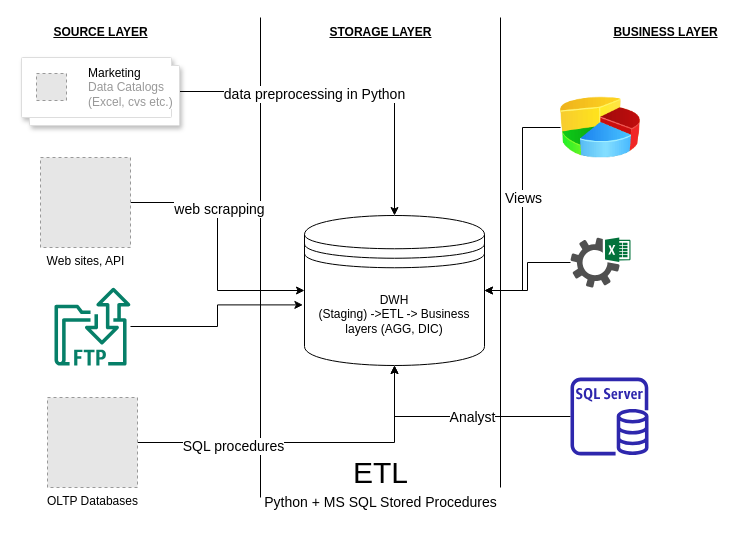
The diagram is 748 pixels wide and 535 high, and some of its shapes have lost their labels. Grey dashed boxes stand in for pictures. The centre of each missing label's shape, as x and y in pixels:
"Excel" belongs at pixel 600 262.
"Power BI/Tableu" belongs at pixel 600 127.
